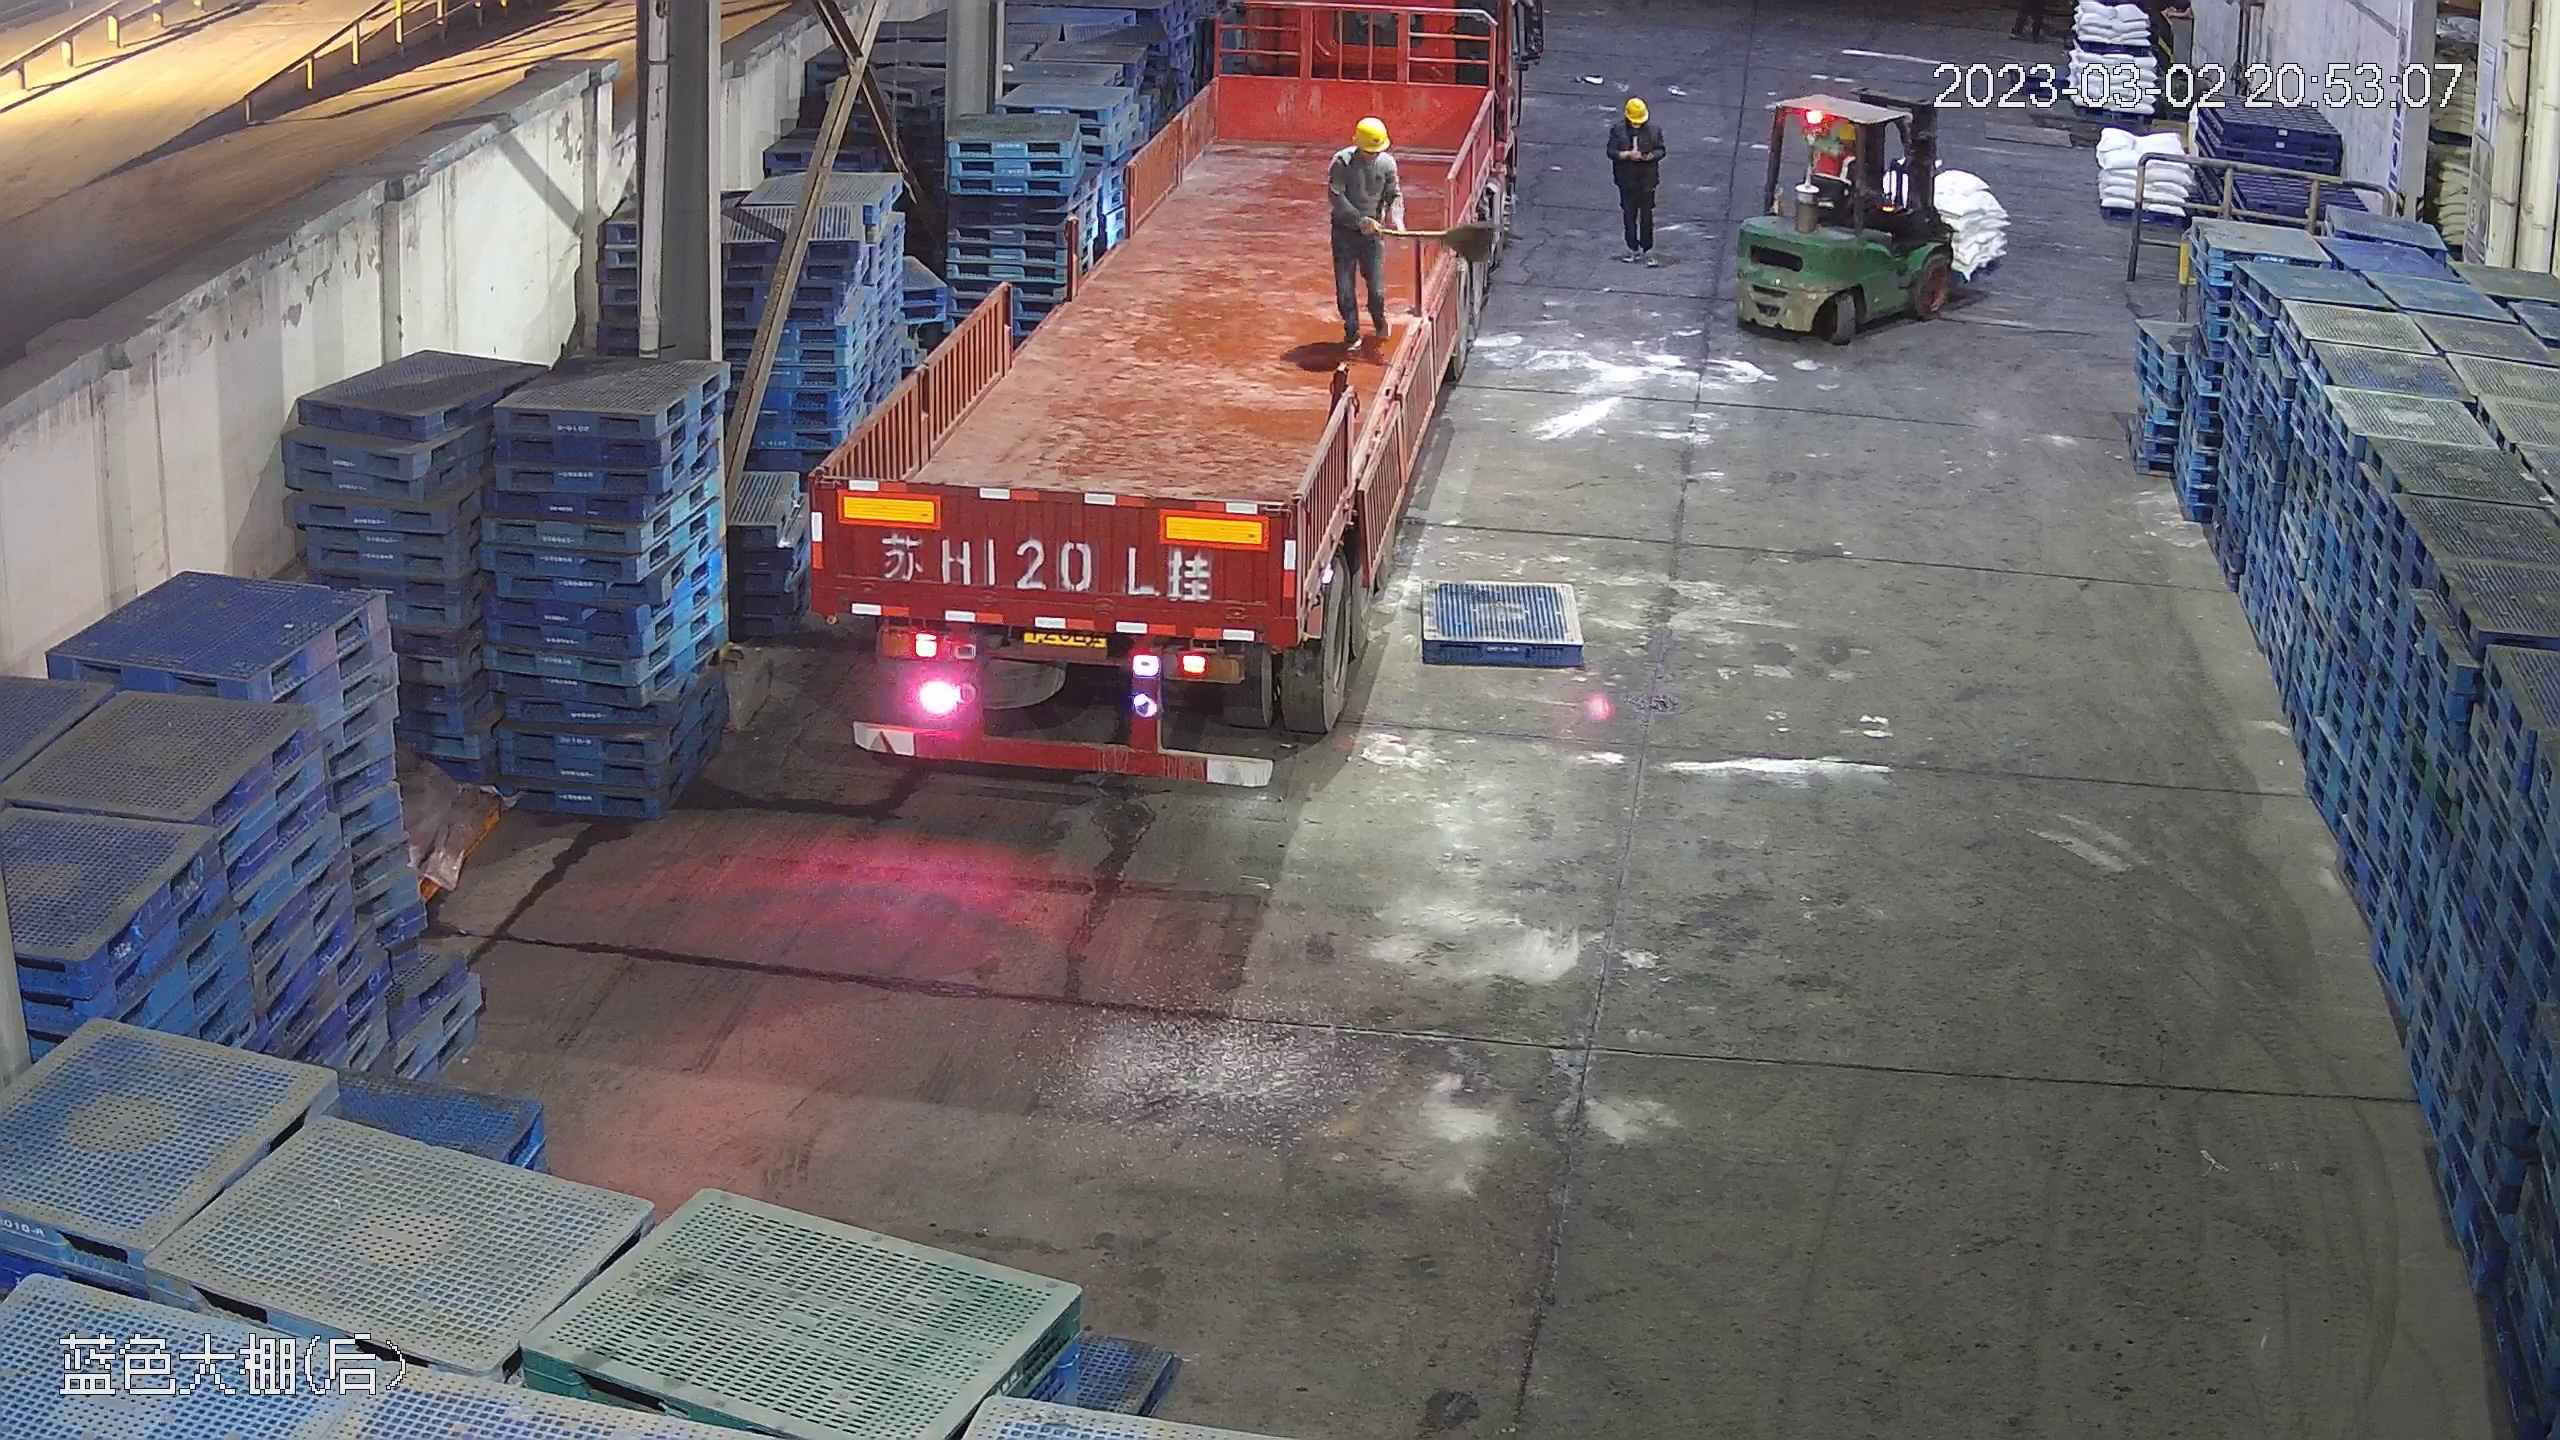head: (1328, 117, 1394, 192), (1612, 96, 1662, 146), (1820, 121, 1865, 169)
helmet: (1349, 116, 1390, 147), (1831, 122, 1863, 149), (1622, 94, 1646, 113)
people: (1322, 115, 1403, 353), (1607, 95, 1669, 259)
truck: (805, 3, 1512, 781)
